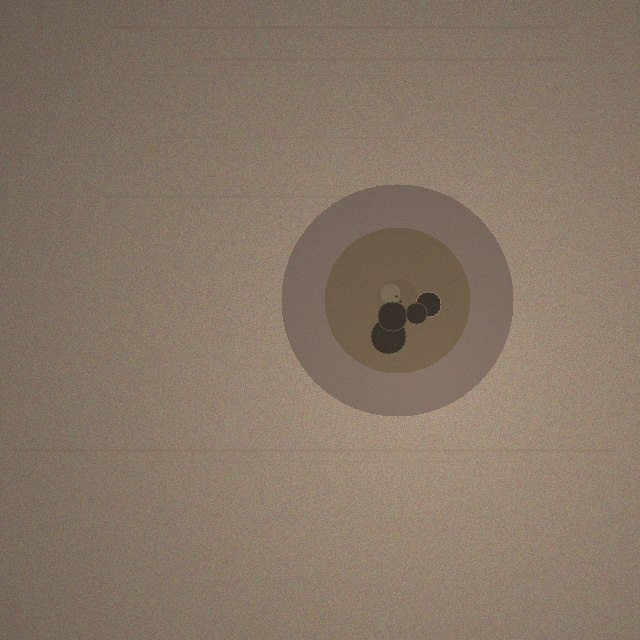shrinkage: (281, 184, 513, 416)
